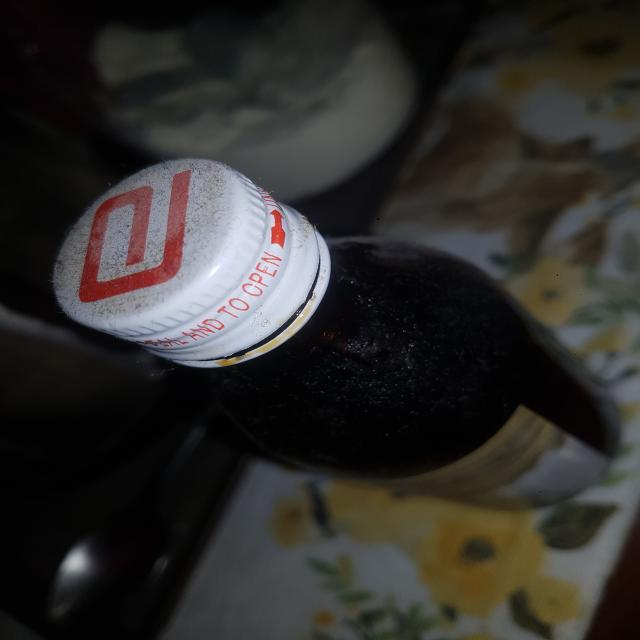electronic: (53, 153, 624, 515)
